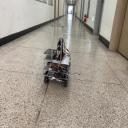cart: (43, 53, 71, 88)
